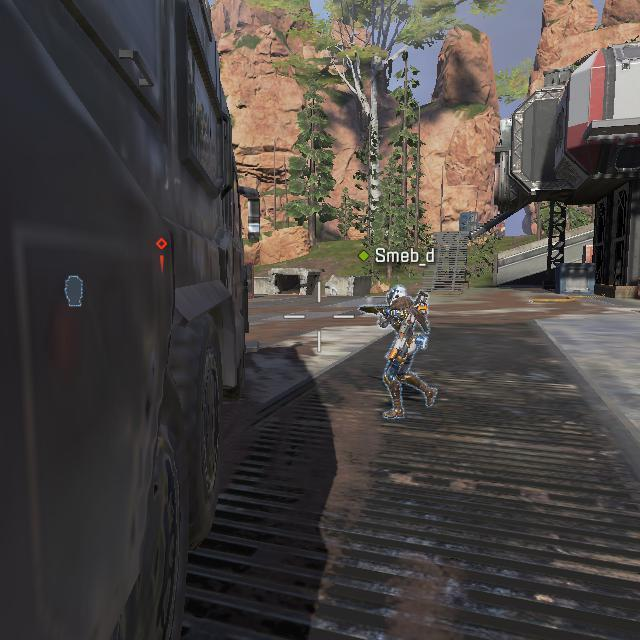avatar: (381, 281, 432, 422)
